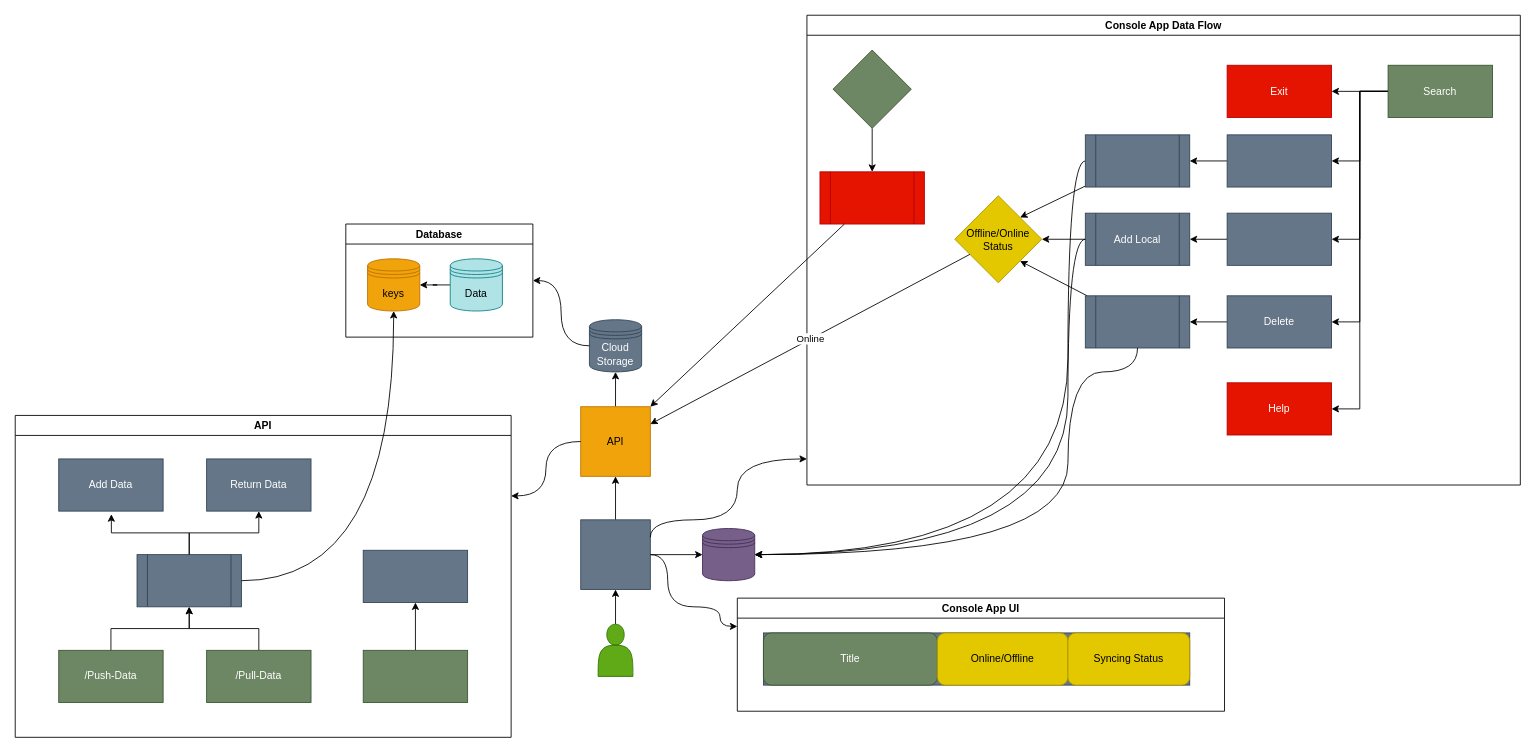
The diagram is 1536 pixels wide and 753 high, and some of its shapes have lost their labels. Each missing label, with the centre of its shape:
"**Syncing**" goes at pixel 871 88.
"/Ping-Server" goes at pixel 415 676.
"Add" goes at pixel 1279 238.
"Console App" goes at pixel 615 554.
"Delete Local" goes at pixel 1137 321.
"Local Storage" goes at pixel 728 554.
"Pull/Push Data" goes at pixel 871 197.
"Query" goes at pixel 1279 160.
"Query Local" goes at pixel 1137 160.
"Return Status" goes at pixel 415 575.
"Validate User" goes at pixel 188 580.
